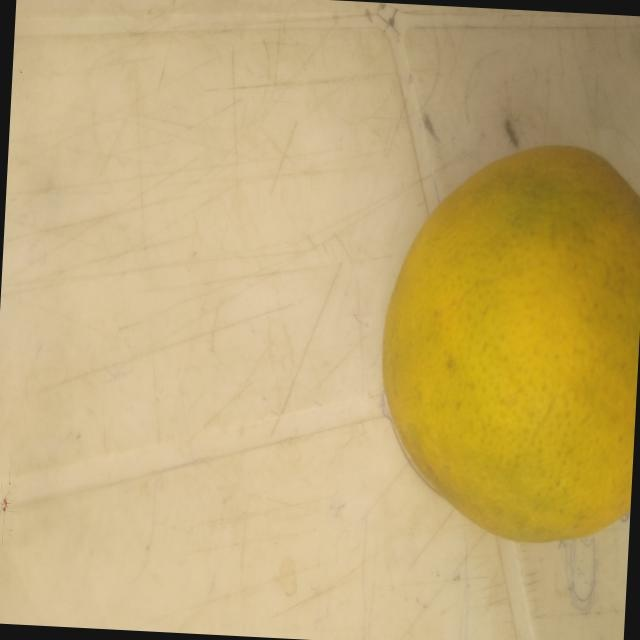agrume: (350, 80, 640, 611)
